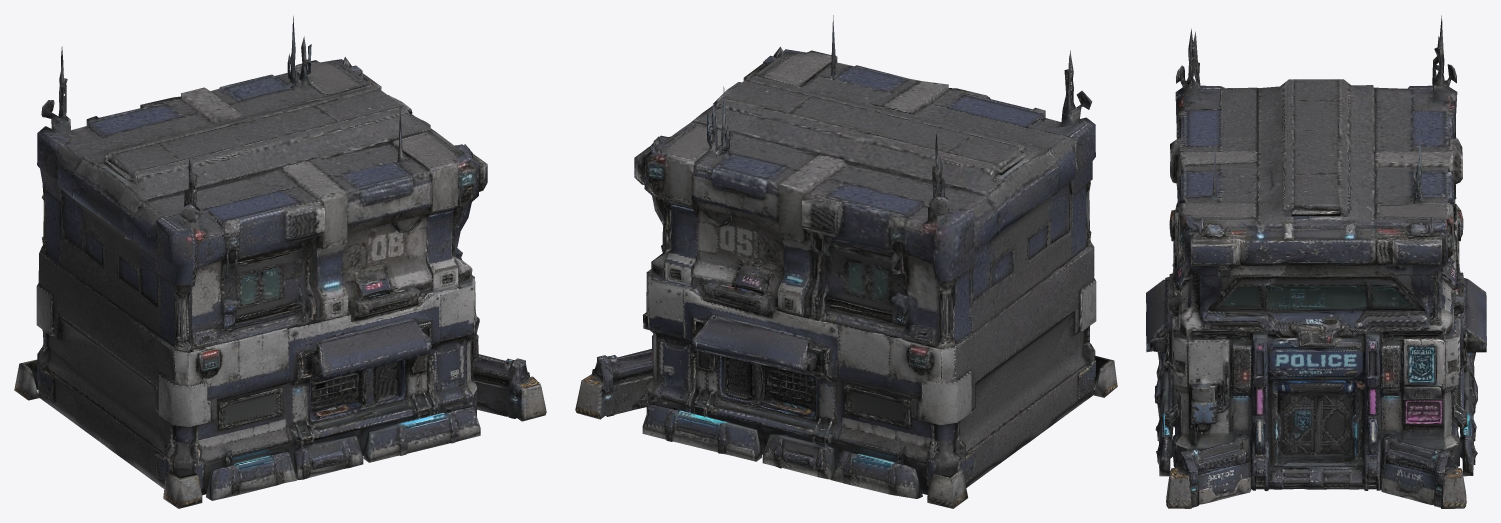
Rendered from tripo_convert_68919fcf-bfec-4bfb-ad45-cda2aff569cf.fbx.
3 views of the same model, side by side, from view 1: azimuth 30°, elevation 25°; view 2: azimuth 150°, elevation 25°; view 3: azimuth 270°, elevation 25° (orthographic). The views are drawn at different scales.
Parts seen in each view (by area): view 1: tripo_node_68919fcf; view 2: tripo_node_68919fcf; view 3: tripo_node_68919fcf.
Boxes of the visible parts, <box> form: tripo_node_68919fcf: <box>14,16,546,508</box>; tripo_node_68919fcf: <box>575,15,1117,508</box>; tripo_node_68919fcf: <box>1146,15,1486,508</box>.
Size of the model in its own units: 0.9783 by 0.869 by 0.8004.
1 material, 1 textured.
